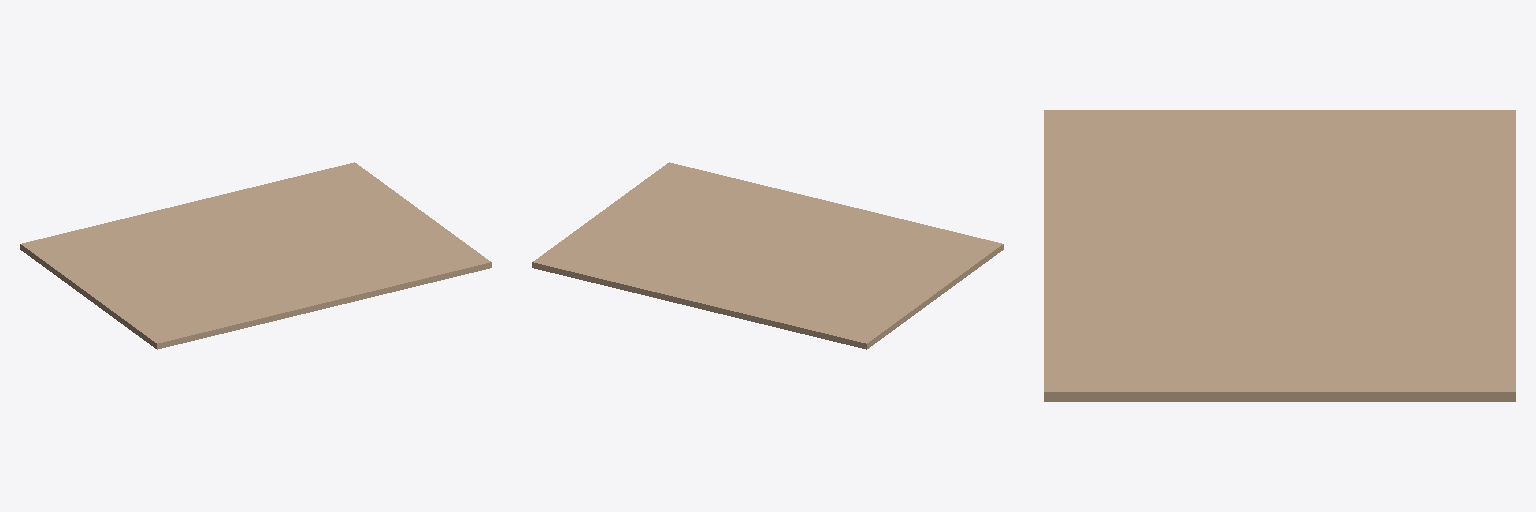
The robot description file, URDF, robot "mikata_arm_4":
<?xml version="1.0"?>
<robot name="mikata_arm_4">
<!-- NOTE Added "rpy="0 0 0"" to <origin> elements of all <joint> since
    KDL uses those information. -->

  <link name="base_link">
    <visual>
      <geometry>
        <mesh filename="package://mikata_arm_description/description/meshes/mikata_arm_4_joint1.dae"/>
      </geometry>
      <origin rpy="0 0 -1.57075" xyz="0 0 0.017"/>
    </visual>
    <collision>
      <origin rpy="0 0 -1.57075" xyz="0 0 0.017"/>
      <geometry>
        <mesh filename="package://mikata_arm_description/description/meshes/mikata_arm_4_joint1.stl"/>
      </geometry>
    </collision>
  </link>

  <link name="plate_link">
    <visual>
      <geometry>
        <box size="0.297 0.210 0.005"/>
      </geometry>
      <material name="gray">
        <color rgba="0.8 0.7 0.6 0.5"/>
      </material>
    </visual>
  </link>
  <joint name="plate_joint" type="fixed">
    <parent link="base_link"/>
    <child link="plate_link"/>
    <origin rpy="0 0 0" xyz="0.0755 0 -0.005"/>
  </joint>
  
  <link name="link_2">
    <visual>
      <geometry>
        <mesh filename="package://mikata_arm_description/description/meshes/mikata_arm_4_joint2.dae"/>
      </geometry>
      <origin rpy="1.57075 0 1.57075" xyz="0 0 .0405"/>
    </visual>
    <collision>
      <origin rpy="1.57075 0 1.57075" xyz="0 0 .0405"/>
      <geometry>
        <mesh filename="package://mikata_arm_description/description/meshes/mikata_arm_4_joint2.stl"/>
      </geometry>
    </collision>
  </link>
  <joint name="joint_1" type="revolute">
    <parent link="base_link"/>
    <child link="link_2"/>
    <axis xyz="0 0 1"/>
    <limit lower="-3.141592653589793" upper="3.1400586728019073" effort="1000" velocity="0.7"/>
    <origin rpy="0 0 0" xyz="0 0 .0355"/>
  </joint>

  <link name="link_3">
    <visual>
      <geometry>
        <mesh filename="package://mikata_arm_description/description/meshes/mikata_arm_4_joint3.dae"/>
      </geometry>
      <origin rpy="0 0 -1.57075" xyz=".024 0 .148"/>
    </visual>
    <collision>
      <origin rpy="0 0 -1.57075" xyz=".024 0 .148"/>
      <geometry>
        <mesh filename="package://mikata_arm_description/description/meshes/mikata_arm_4_joint3.stl"/>
      </geometry>
    </collision>    
  </link>
  <joint name="joint_2" type="revolute">
    <parent link="link_2"/>
    <child link="link_3"/>
    <axis xyz="0 1 0"/>
    <limit lower="-1.8070293681292853" upper="2.073942025221387" effort="1000" velocity="0.7"/>
    <origin rpy="0 0 0" xyz="0 0 .0405"/>
  </joint>
  
  <link name="link_4">
    <visual>
      <geometry>
        <mesh filename="package://mikata_arm_description/description/meshes/mikata_arm_4_joint4.dae"/>
      </geometry>
      <origin rpy="0 3.14159 -1.57075" xyz=".150 0 0"/>
    </visual>
    <collision>
      <origin rpy="0 3.14159 -1.57075" xyz=".150 0 0"/>
      <geometry>
        <mesh filename="package://mikata_arm_description/description/meshes/mikata_arm_4_joint4.stl"/>
      </geometry>
    </collision>
  </link>
  <joint name="joint_3" type="revolute">
    <parent link="link_3"/>
    <child link="link_4"/>
    <axis xyz="0 1 0"/>
    <limit lower="-1.7456701366138596" upper="1.4143302864305611" effort="1000" velocity="0.7"/>
    <origin rpy="0 0 0" xyz=".024 0 .148"/>
  </joint>

  <link name="link_5">
    <visual>
      <geometry>
        <mesh filename="package://mikata_arm_description/description/meshes/mikata_arm_4_joint5.dae"/>
      </geometry>
      <origin rpy="0 1.57075 0" xyz=".04225 .015 0"/>
    </visual>
    <collision>
      <origin rpy="0 1.57075 0" xyz=".04225 .015 0"/>
      <geometry>
        <mesh filename="package://mikata_arm_description/description/meshes/mikata_arm_4_joint5.stl"/>
      </geometry>
    </collision>    
  </link>
  <joint name="joint_4" type="revolute">
    <parent link="link_4"/>
    <child link="link_5"/>
    <axis xyz="0 1 0"/>
    <limit lower="-1.7303303287350031" upper="1.88986433067511" effort="1000" velocity="0.7"/>
    <origin rpy="0 0 0" xyz="0.150 0 0"/>
  </joint>

  <link name="left_gripper">
    <visual>
      <geometry>
        <mesh filename="package://mikata_arm_description/description/meshes/mikata_arm_4_gripper.dae"/>
      </geometry>
      <origin rpy="3.14159 0 -.9773835"/>
    </visual>
    <collision>
      <origin rpy="3.14159 0 -.9773835"/>
      <geometry>
        <mesh filename="package://mikata_arm_description/description/meshes/mikata_arm_4_gripper.stl"/>
      </geometry>
    </collision>    
  </link>
  <joint name="gripper_joint_5" type="revolute">
    <parent link="link_5"/>
    <child link="left_gripper"/>
    <axis xyz="0 0 -1"/>
    <limit lower="0" upper="1.452906" effort="1000" velocity="0.7"/>
    <origin rpy="0 0 0" xyz=".04225 .015 0"/>
  </joint>

  <link name="right_gripper">
    <visual>
      <geometry>
        <mesh filename="package://mikata_arm_description/description/meshes/mikata_arm_4_gripper.dae"/>
      </geometry>
      <origin rpy="0 0 .9773835"/>
    </visual>
    <collision>
      <origin rpy="0 0 .9773835"/>
      <geometry>
        <mesh filename="package://mikata_arm_description/description/meshes/mikata_arm_4_gripper.stl"/>
      </geometry>
    </collision>    
  </link>
  <joint name="right_gripper_joint" type="revolute">
    <parent link="link_5"/>
    <child link="right_gripper"/>
    <axis xyz="0 0 -1"/>
    <limit lower="0" upper="1.452906" effort="1000" velocity="0.7"/>
    <origin rpy="0 0 0" xyz=".04225 -.015 0"/>
    <mimic joint="gripper_joint_5" multiplier="-1"/>
  </joint>

</robot>

--- Render facts (derived) ---
Views: 3 orthographic renders of the robot side by side, from view 1: azimuth 30°, elevation 25°; view 2: azimuth 150°, elevation 25°; view 3: azimuth 270°, elevation 25°.
Model mikata_arm_4 with 8 links and 7 joints (6 revolute, 1 fixed), rooted at base_link, posed all joints at 0.
Links seen in each view (by area): view 1: plate_link; view 2: plate_link; view 3: plate_link.
Boxes of the visible links, x1=… form: plate_link: x1=20, y1=162, x2=491, y2=349; plate_link: x1=532, y1=162, x2=1003, y2=349; plate_link: x1=1044, y1=110, x2=1515, y2=401.
Bounding box of the posed robot: 0.297 × 0.21 × 0.005 m (x, y, z).
0 mesh visuals loaded from 6 distinct referenced files (none loaded); not drawn: 7 (reference not matched to a file when rendering).